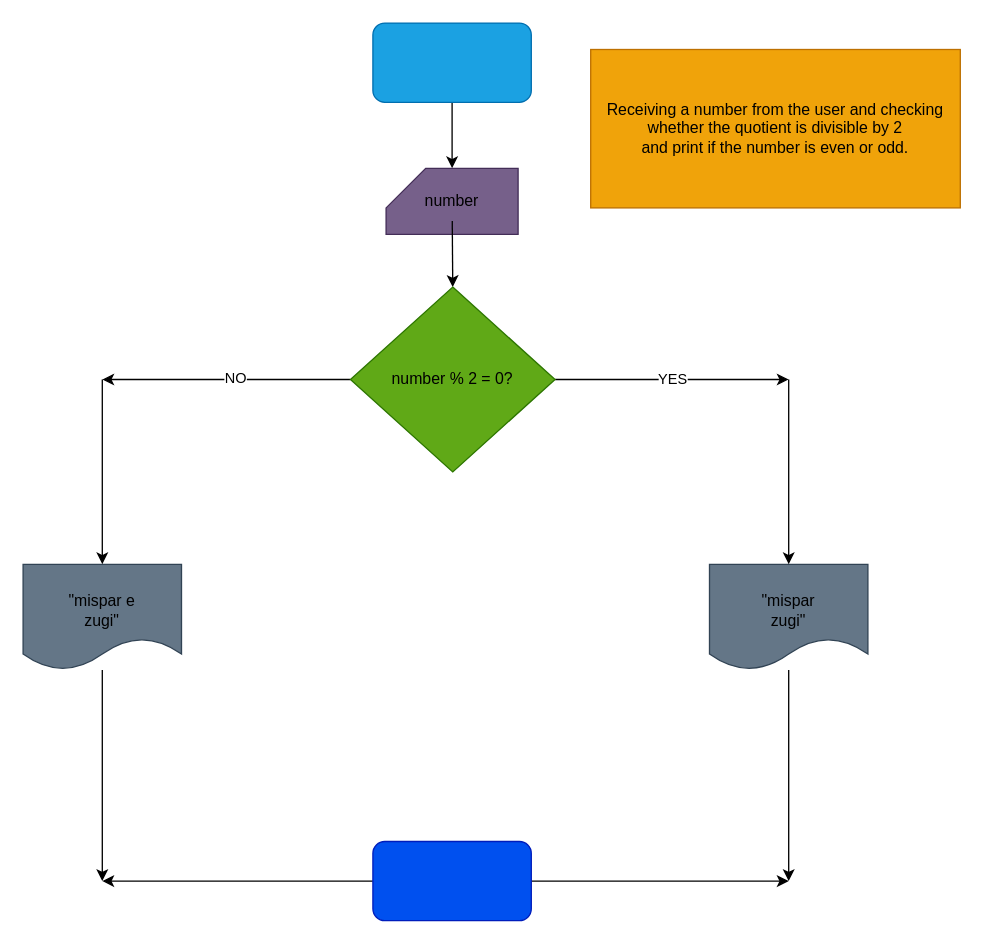
Some shapes in this 983 by 944 pixel diagram are drawn without their labels. Each missing label, with the box of its shape:
END: (372, 840, 531, 921)
START: (372, 22, 531, 102)
